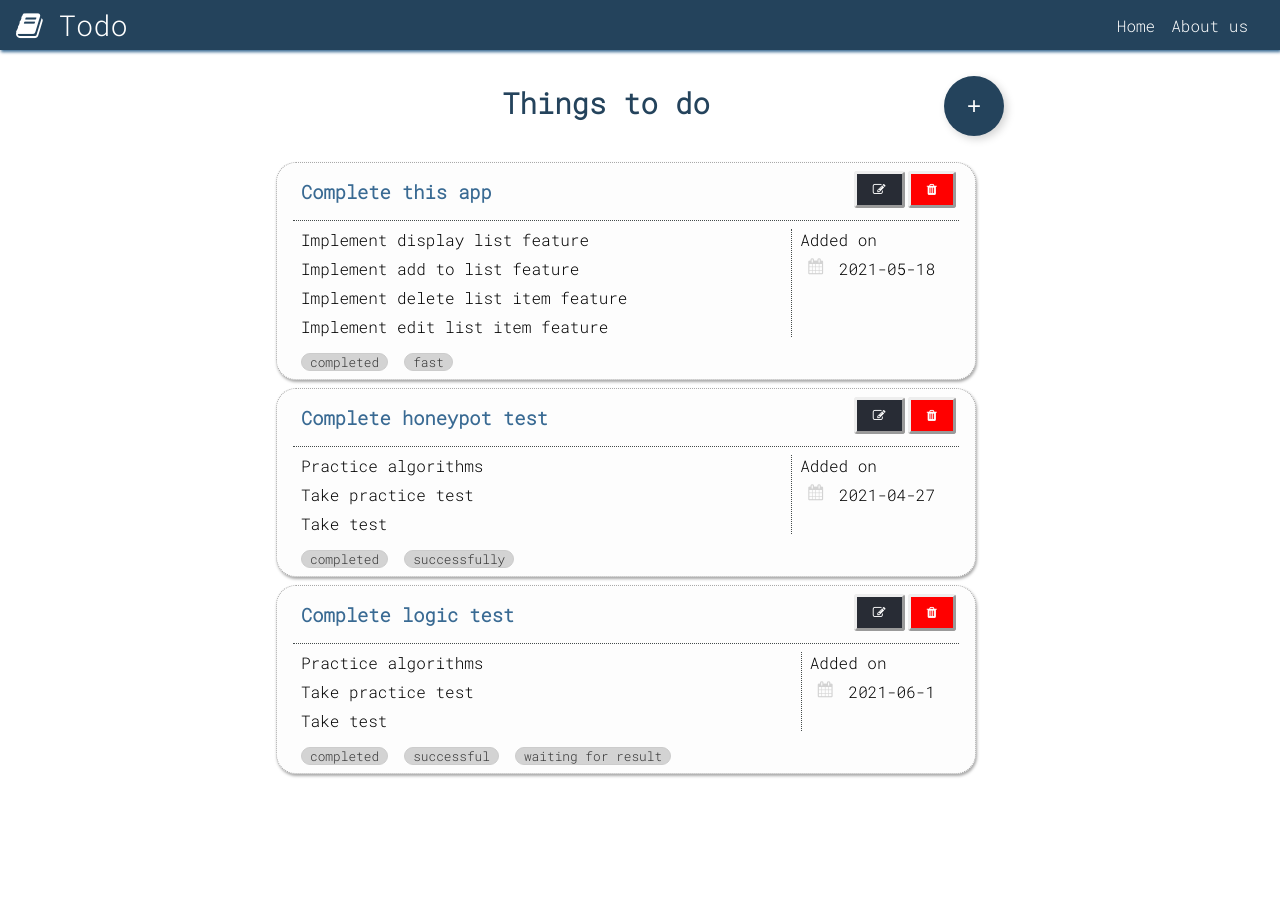
Test: Check event interaction › Clicking + button must open Add form
Click the button with test id "add-btn". click: coordinates (974, 106)
box: [944,76,1004,136]
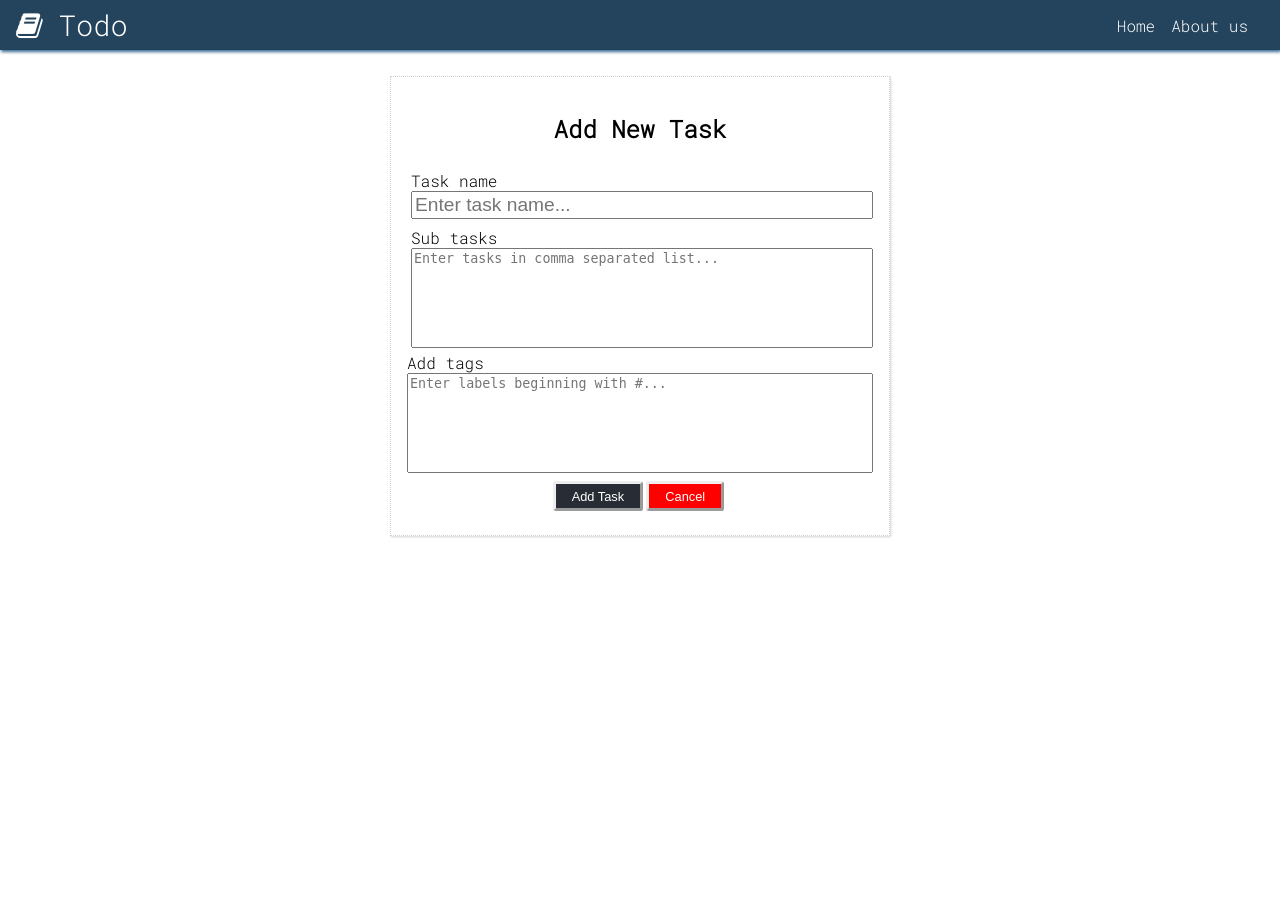
Now the heading "Add New Task" is shown, box [554,113,726,145]
